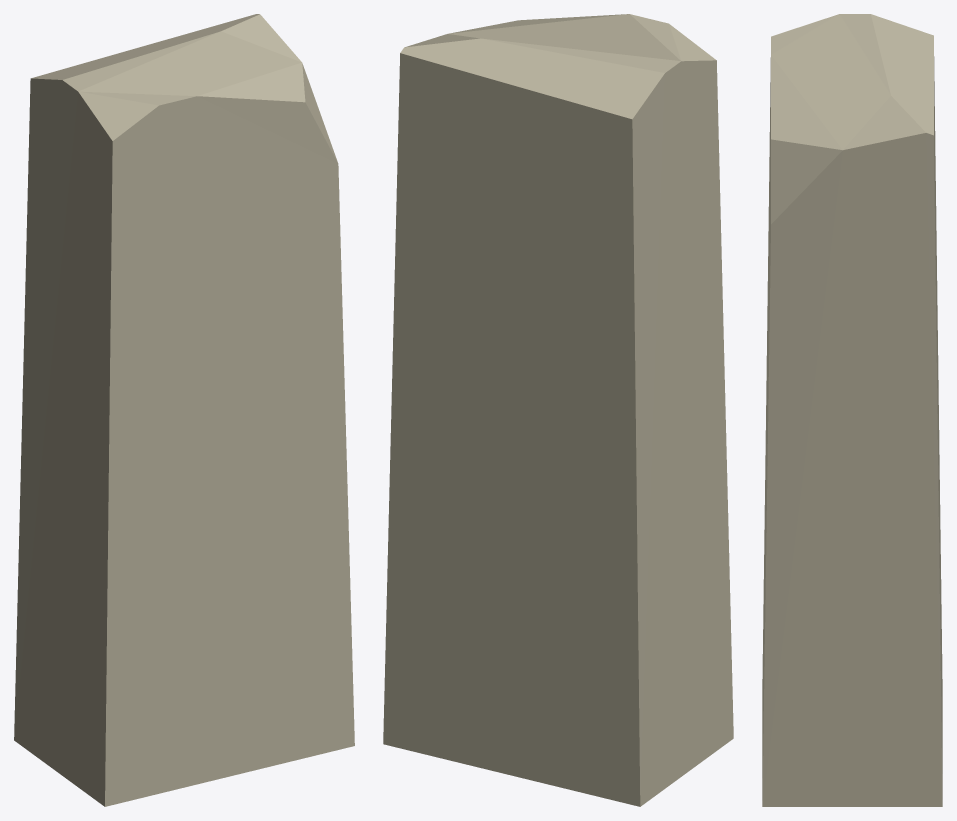
The model's file is Stonehenge_06.fbx.
3 renders of one model, left to right at view 1: azimuth 30°, elevation 25°; view 2: azimuth 150°, elevation 25°; view 3: azimuth 270°, elevation 25°, orthographic. The views are drawn at different scales.
Parts seen in each view (by area): view 1: Stonehenge_06; view 2: Stonehenge_06; view 3: Stonehenge_06.
Boxes of the visible parts, <box> form: Stonehenge_06: <box>14,14,354,806</box>; Stonehenge_06: <box>383,14,733,806</box>; Stonehenge_06: <box>762,14,942,806</box>.
Bounding box in the file's own units: 2.1 × 5.5 × 1.32.
